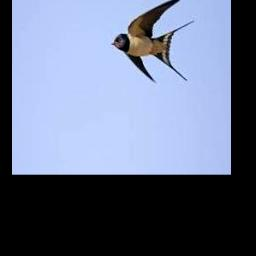Swallow: (111, 0, 195, 82)
